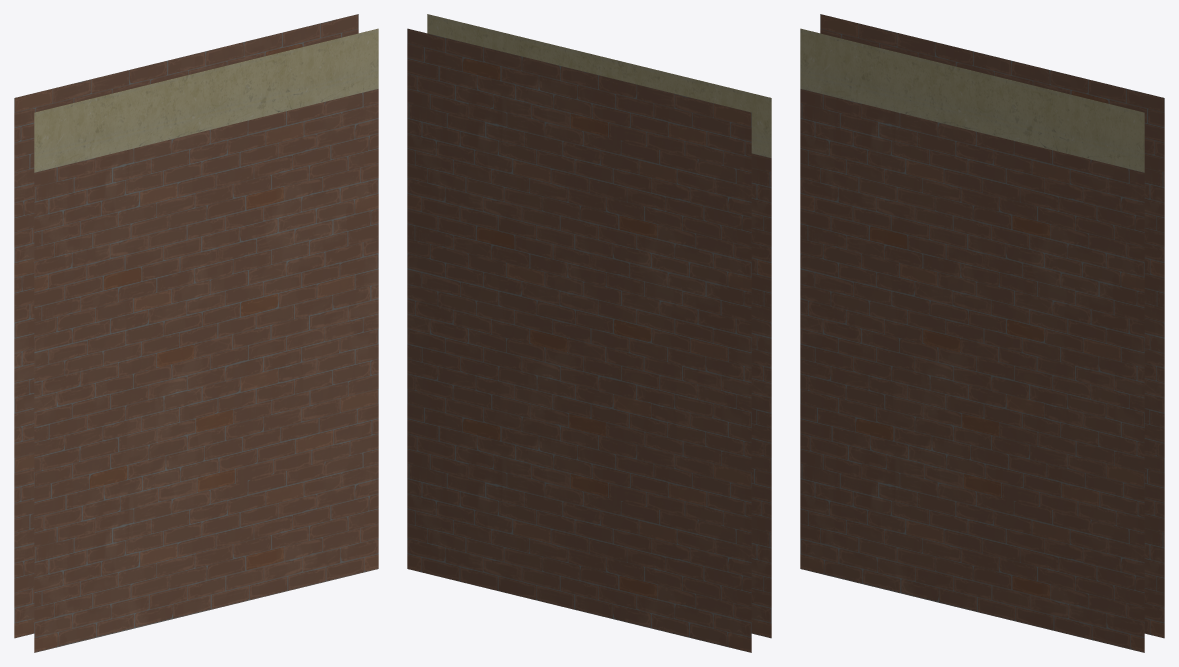
File: Brick_TopTrim.gltf
3 renders of one model, left to right at view 1: azimuth 30°, elevation 25°; view 2: azimuth 150°, elevation 25°; view 3: azimuth 330°, elevation 25°, orthographic.
Parts seen in each view (by area): view 1: Brick_TopTrim; view 2: Brick_TopTrim; view 3: Brick_TopTrim.
Boxes of the visible parts, <box> form: Brick_TopTrim: <box>14,14,378,652</box>; Brick_TopTrim: <box>407,14,771,652</box>; Brick_TopTrim: <box>800,14,1164,652</box>.
Bounding box in the file's own units: 2 × 3 × 0.2.
3 materials, 3 textured.
